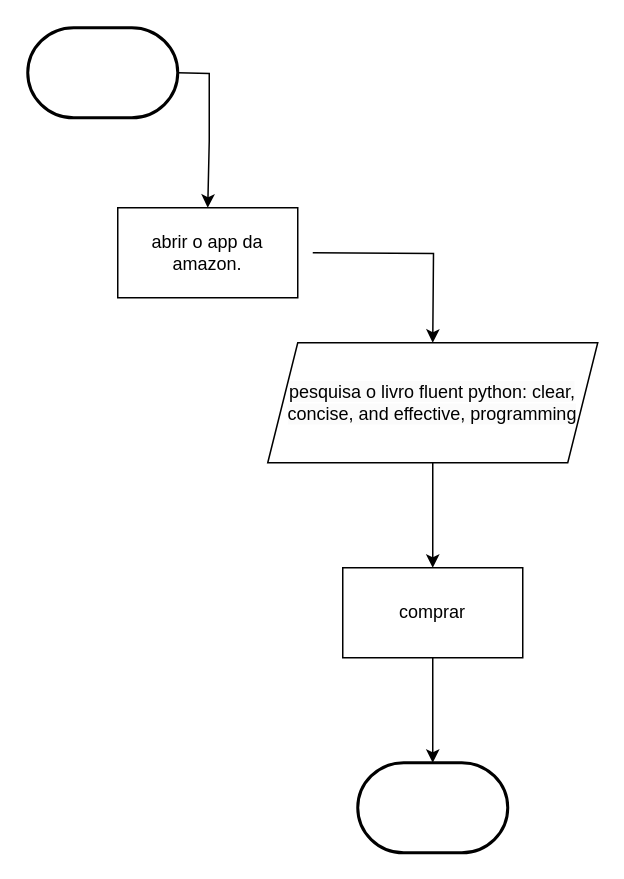
Image size: 624x879. Some labels were removed from this diagram. The shapes that lost their labels are listed below. From the top down, each one's centre as x and y in pixels, then its label:
At point 102,72: "ligar o aparelho".
At point 432,807: "fim".
